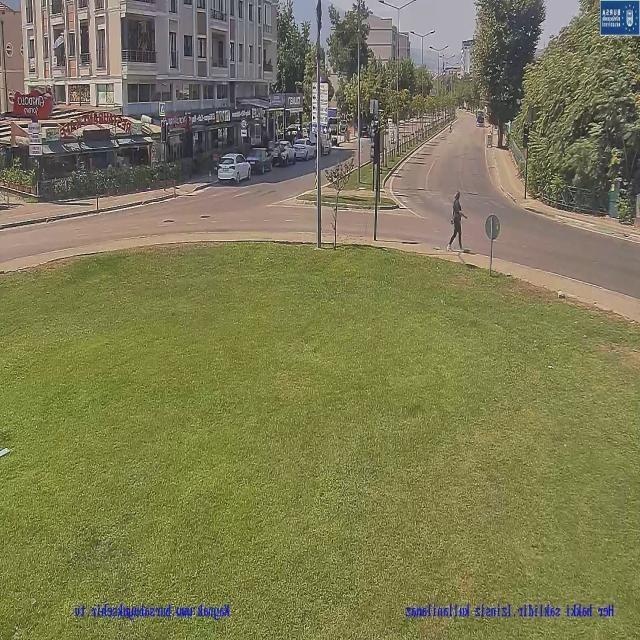Car: (218, 152, 251, 182), (248, 147, 270, 174), (271, 141, 295, 165), (295, 137, 317, 160)
